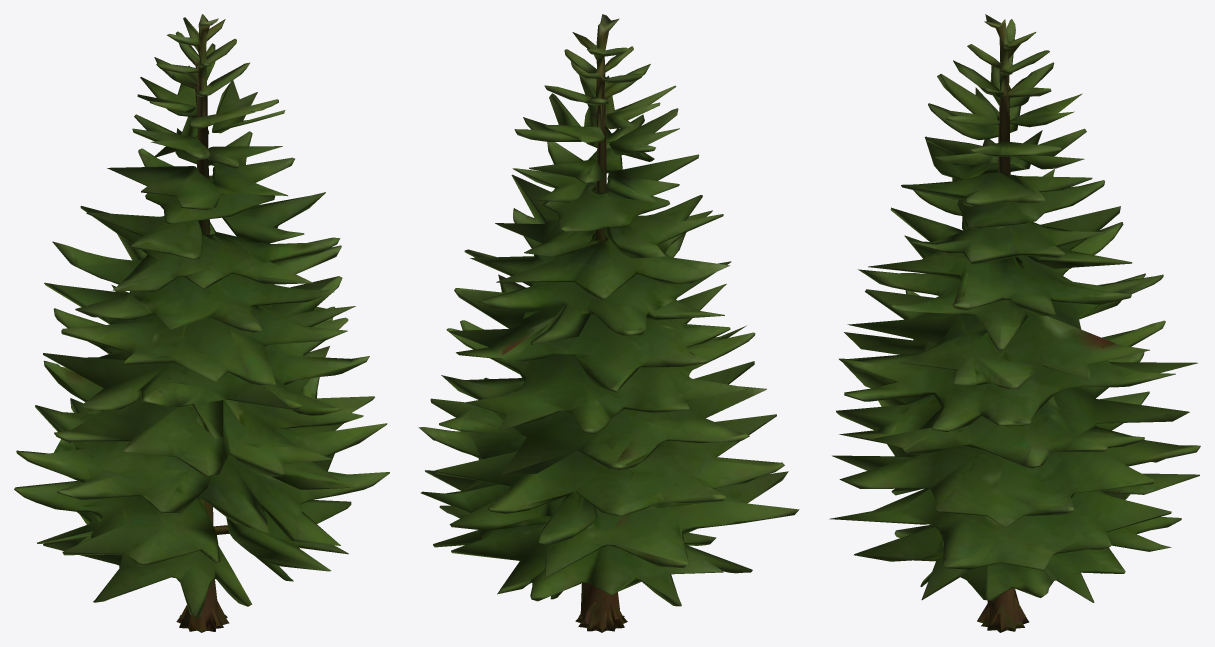
File: pine_tree_1.glb
3 renders of one model, left to right at view 1: azimuth 30°, elevation 25°; view 2: azimuth 150°, elevation 25°; view 3: azimuth 270°, elevation 25°, orthographic.
Parts seen in each view (by area): view 1: node_0; view 2: node_0; view 3: node_0.
Part boxes in pixels (left/top/right/bottom): node_0: left=14, top=14, right=389, bottom=632; node_0: left=418, top=14, right=799, bottom=632; node_0: left=829, top=14, right=1200, bottom=632.
Size of the model in its own units: 0.6744 by 1.19 by 0.6658.
1 material, 1 textured.
